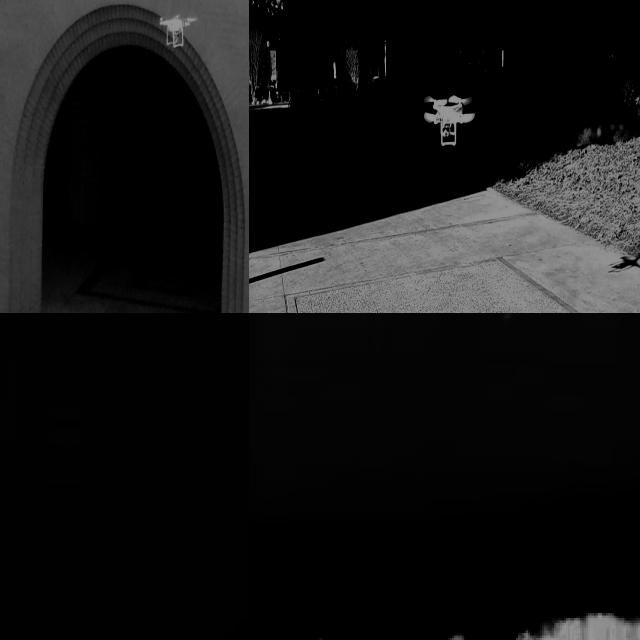0: (492, 313, 520, 333)
drone: (420, 90, 476, 148), (156, 11, 192, 54)
